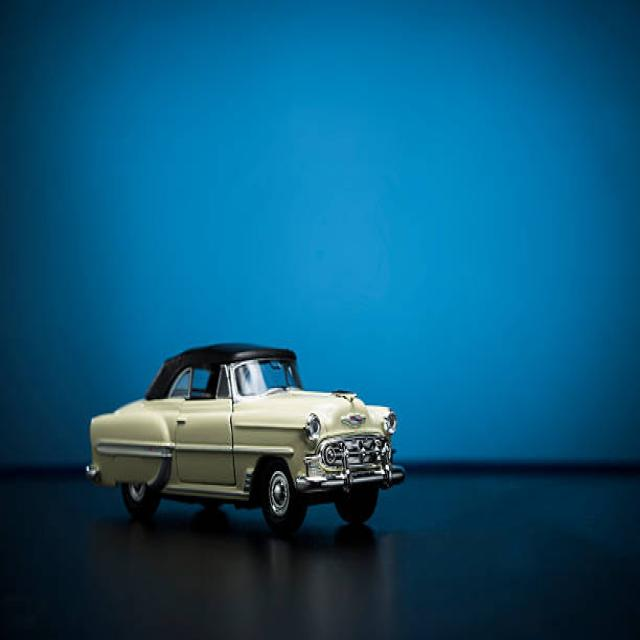Car: (84, 341, 404, 535)
